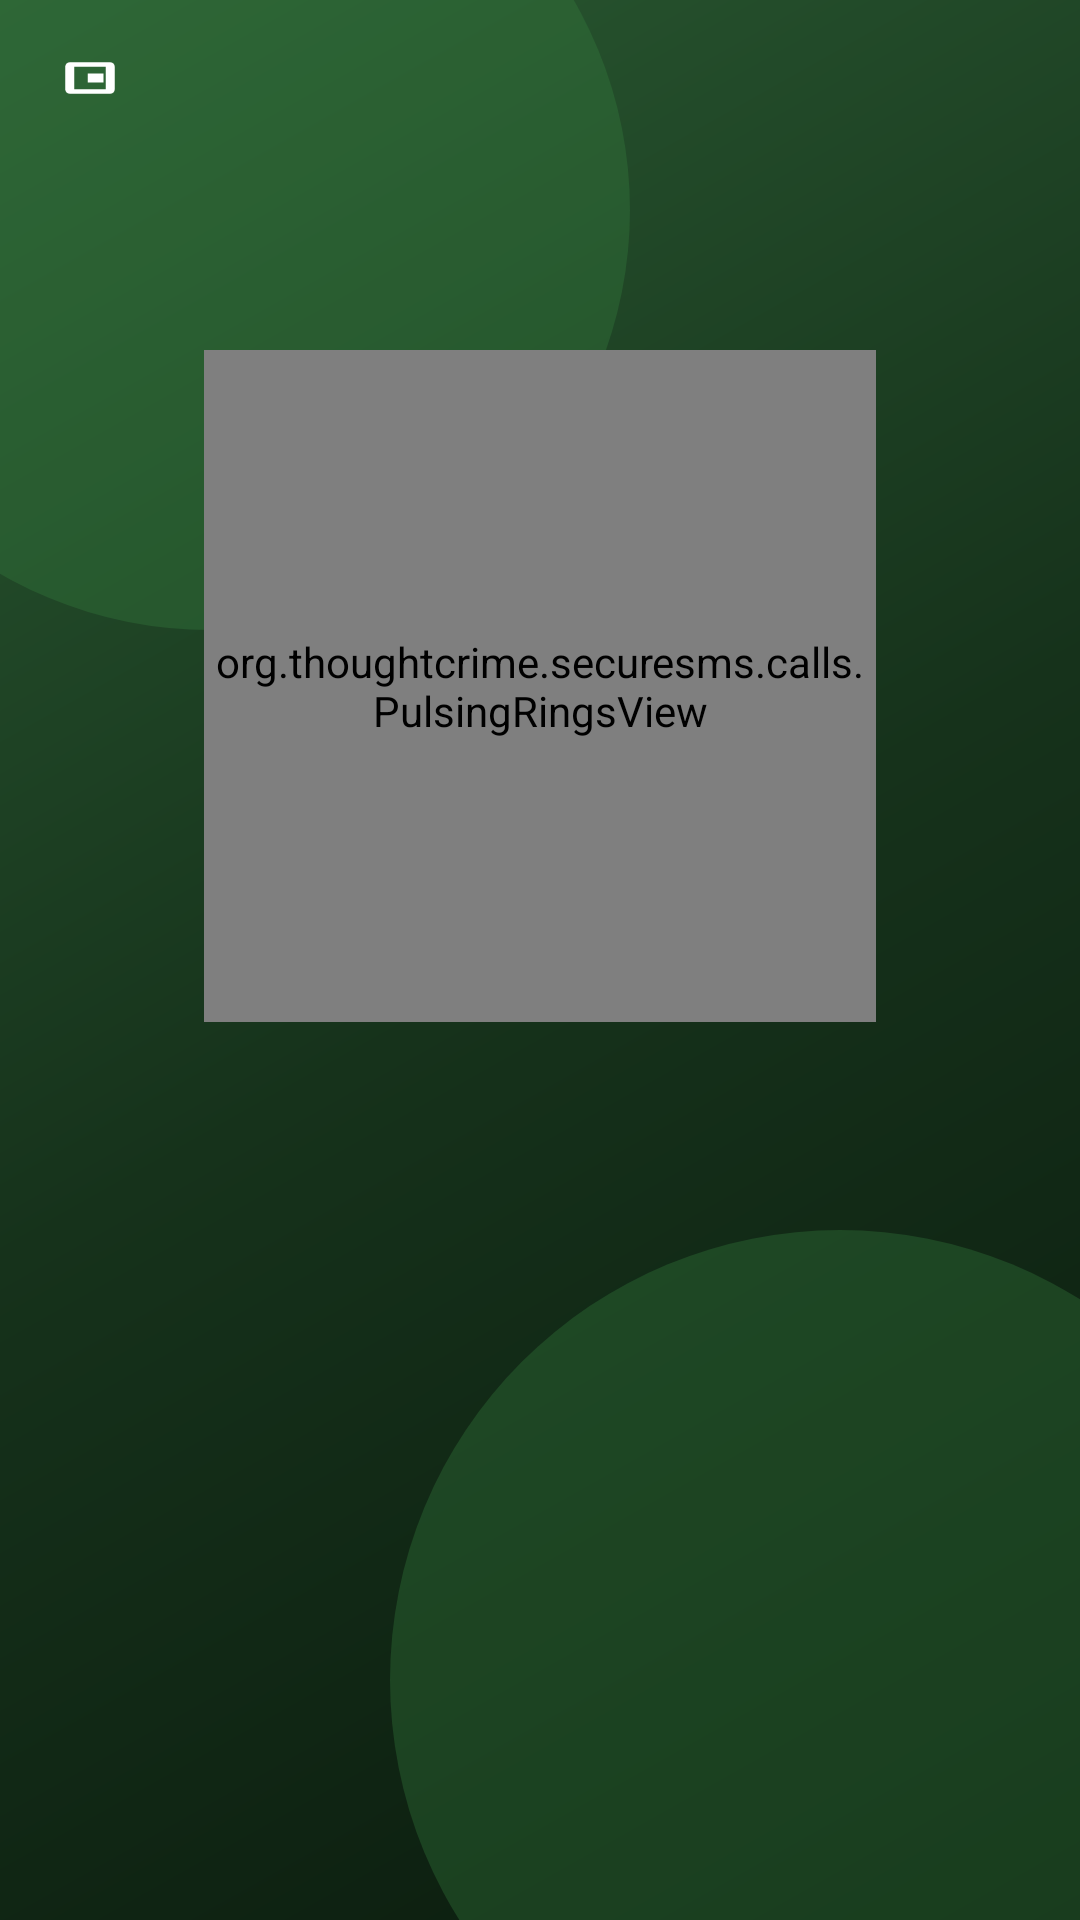

Named icons in this screenshot (1080px×1920px) and their bounding boxes, (x1, y1, x2, y2):
Picture in picture: (65, 62, 115, 94)
